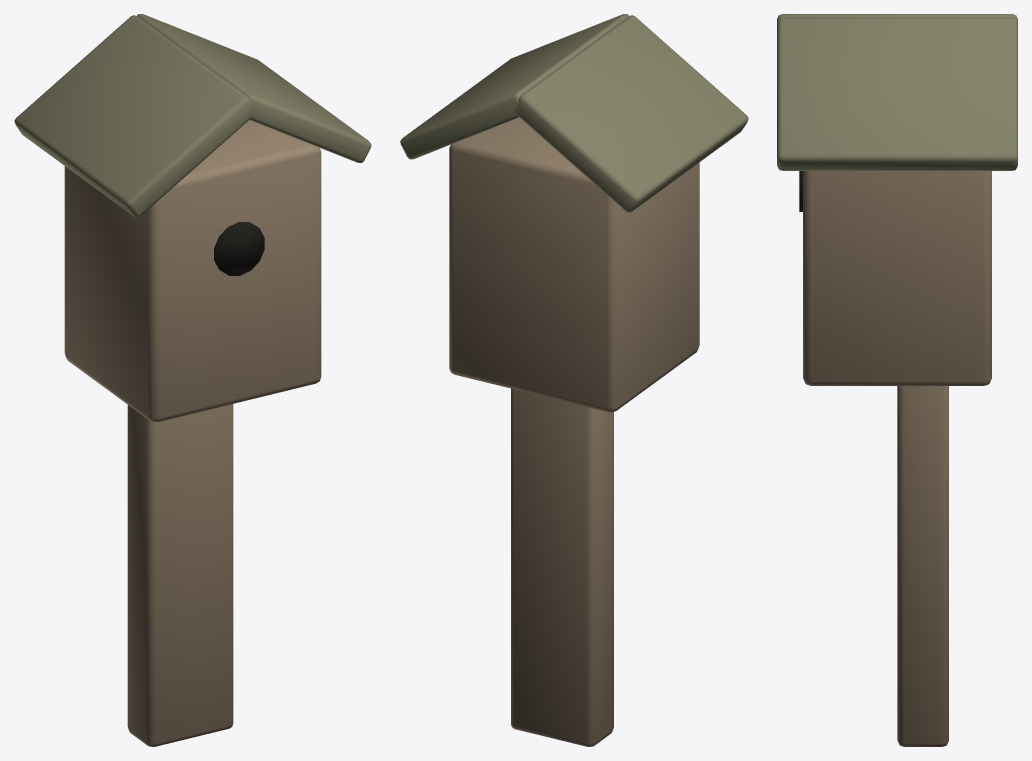
The model's file is birdhouse.glb.
The picture shows the model from 3 angles, left to right: view 1: azimuth 30°, elevation 25°; view 2: azimuth 150°, elevation 25°; view 3: azimuth 270°, elevation 25°; orthographic projection. The views are drawn at different scales.
Parts seen in each view (by area): view 1: g_boards, g_moss_roof, g_hole; view 2: g_boards, g_moss_roof; view 3: g_boards, g_moss_roof.
Part boxes in pixels (bbox=[...]): g_boards: bbox=[64, 120, 321, 746]; g_moss_roof: bbox=[14, 14, 371, 217]; g_hole: bbox=[214, 222, 264, 275]; g_boards: bbox=[449, 117, 699, 746]; g_moss_roof: bbox=[400, 14, 748, 212]; g_boards: bbox=[803, 171, 991, 746]; g_moss_roof: bbox=[777, 14, 1017, 170].
Size of the model in its own units: 0.3414 by 0.9126 by 0.28.
